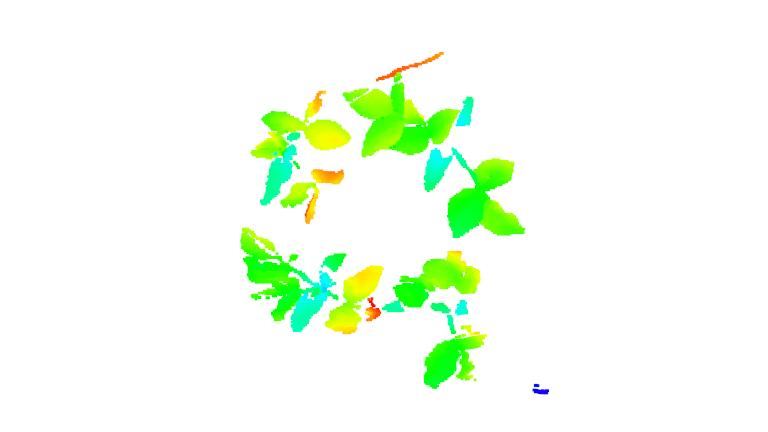mungbean: (344, 70, 531, 241), (236, 221, 387, 337), (383, 247, 483, 389), (250, 88, 352, 224)
